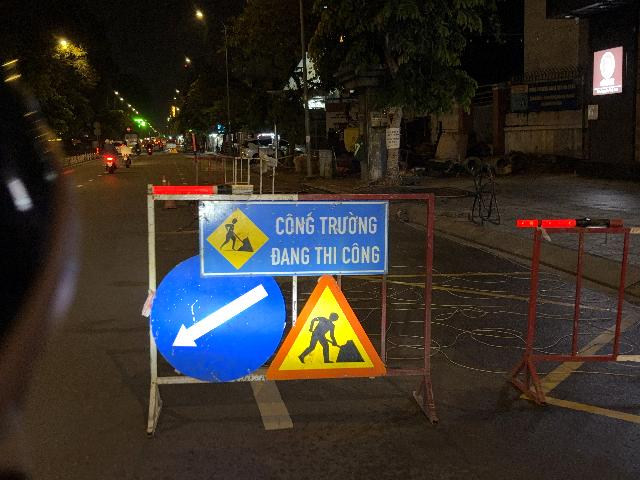cong-truong-dang-thi-cong: (267, 272, 386, 380)
huong-phai-di-vong-chuong-ngai-vat: (149, 253, 287, 383)
